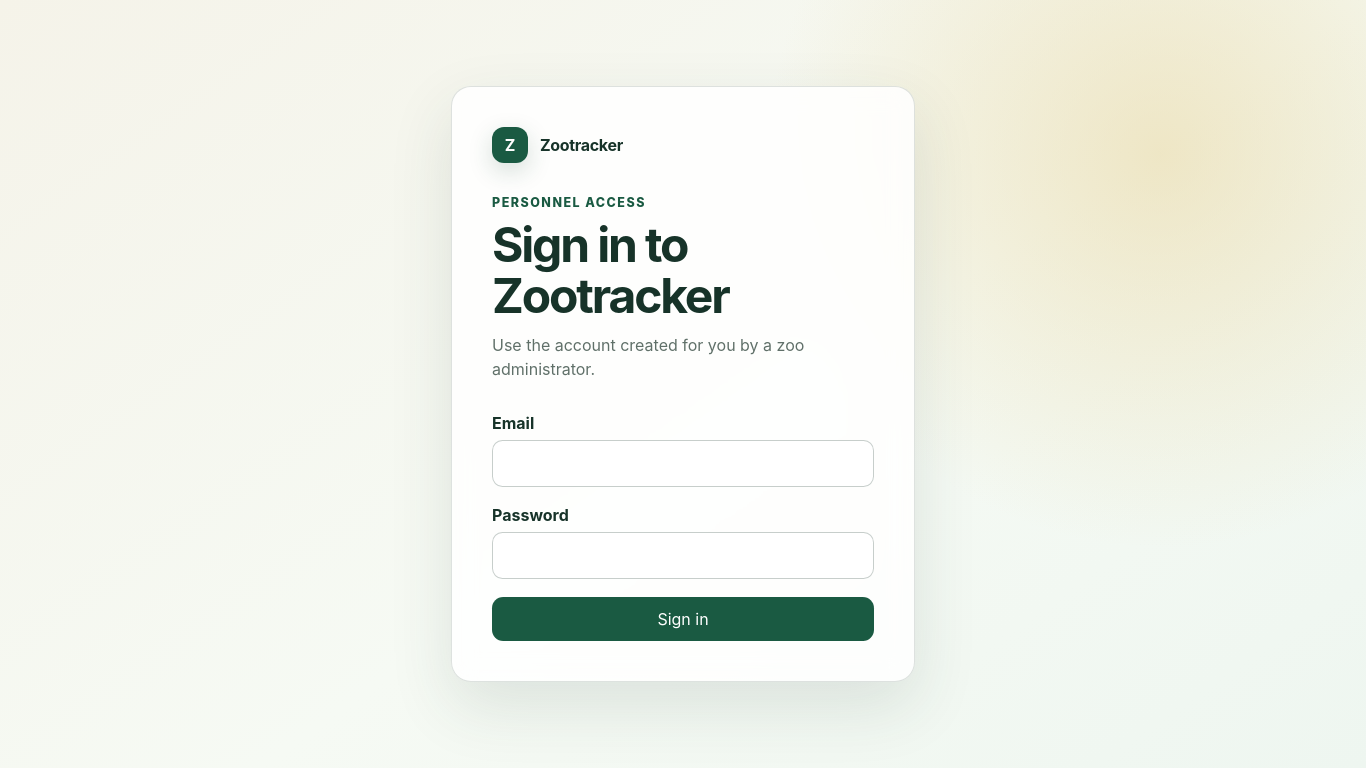
Test: App authentication › redirects into the application after successful authentication
Type "ada@example.com" into the field labelled "Email" at (683, 464), box [492,440,874,487]
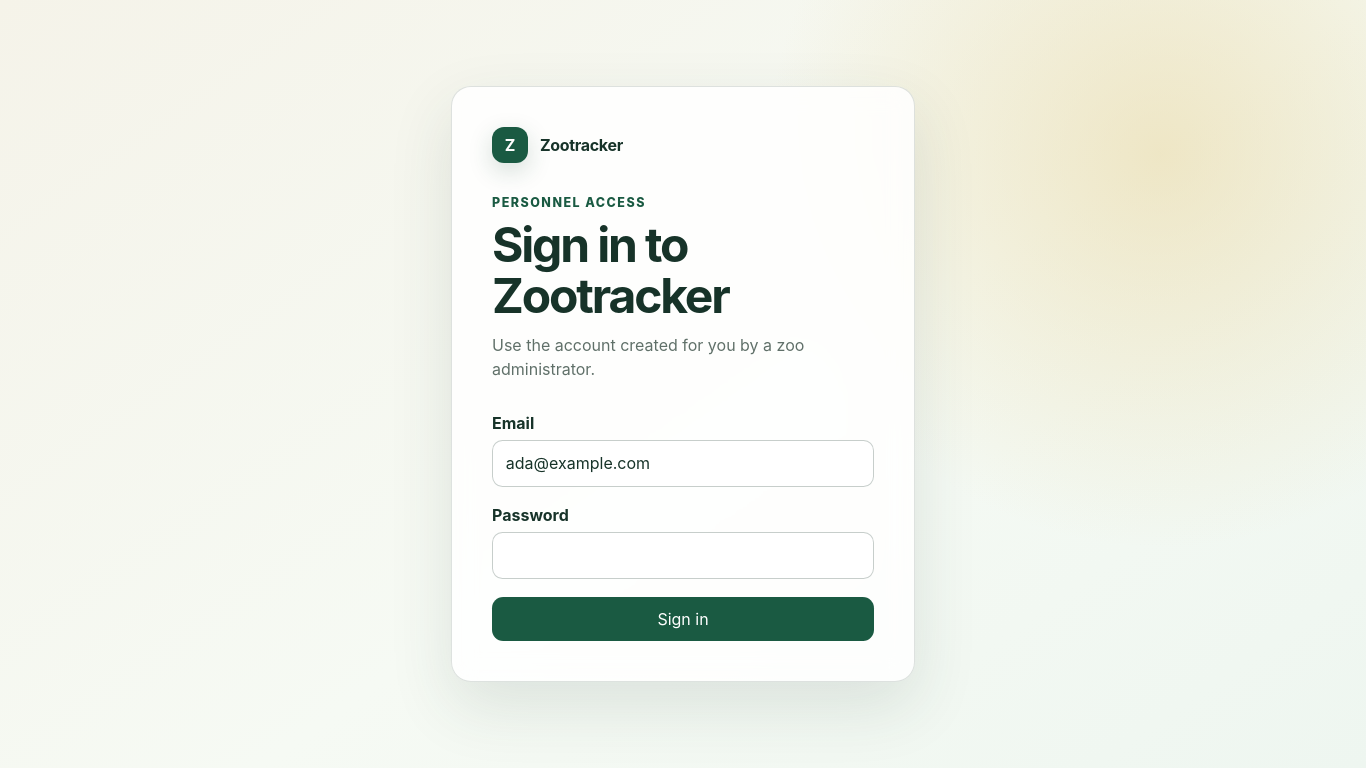
Type "correct-password" into the password field labelled "Password" at (683, 556), box [492,532,874,579]
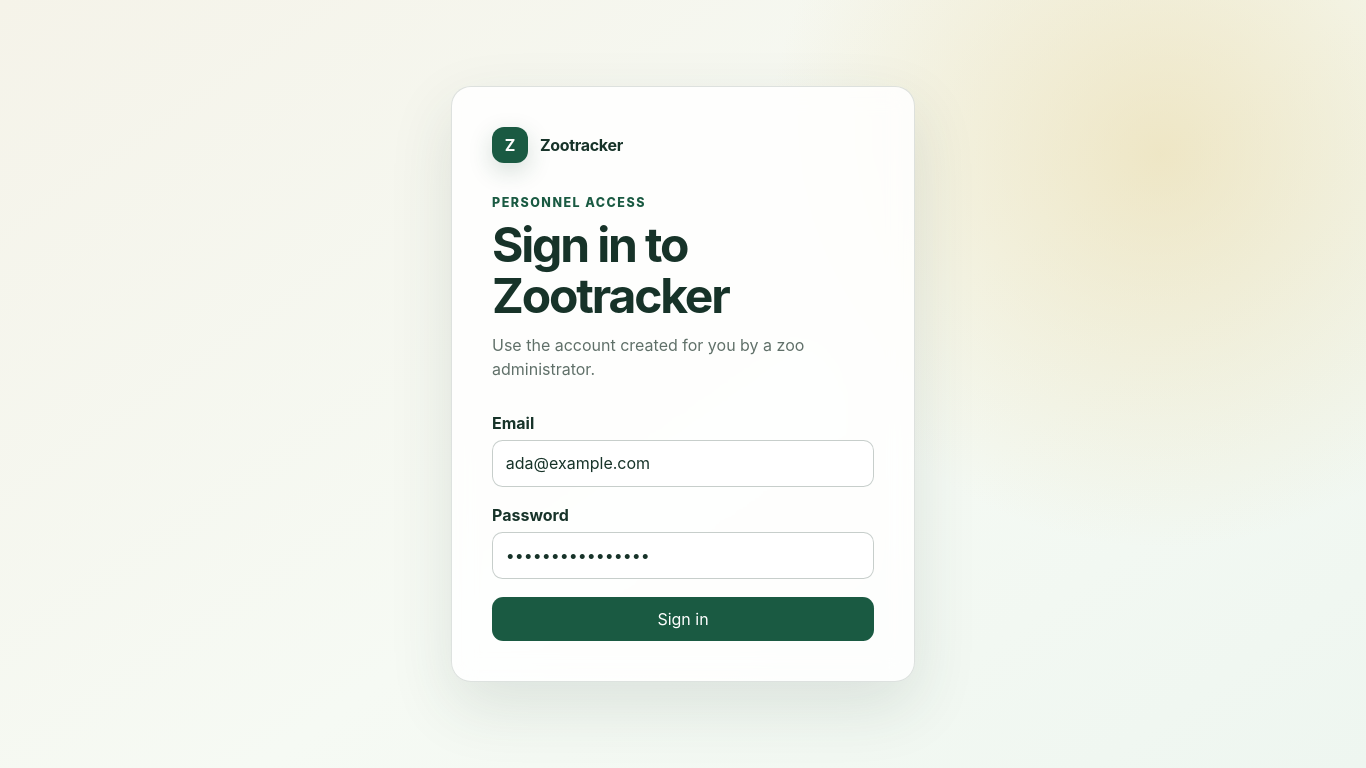
Click the button "Sign in" at (683, 619), box [492,597,874,641]
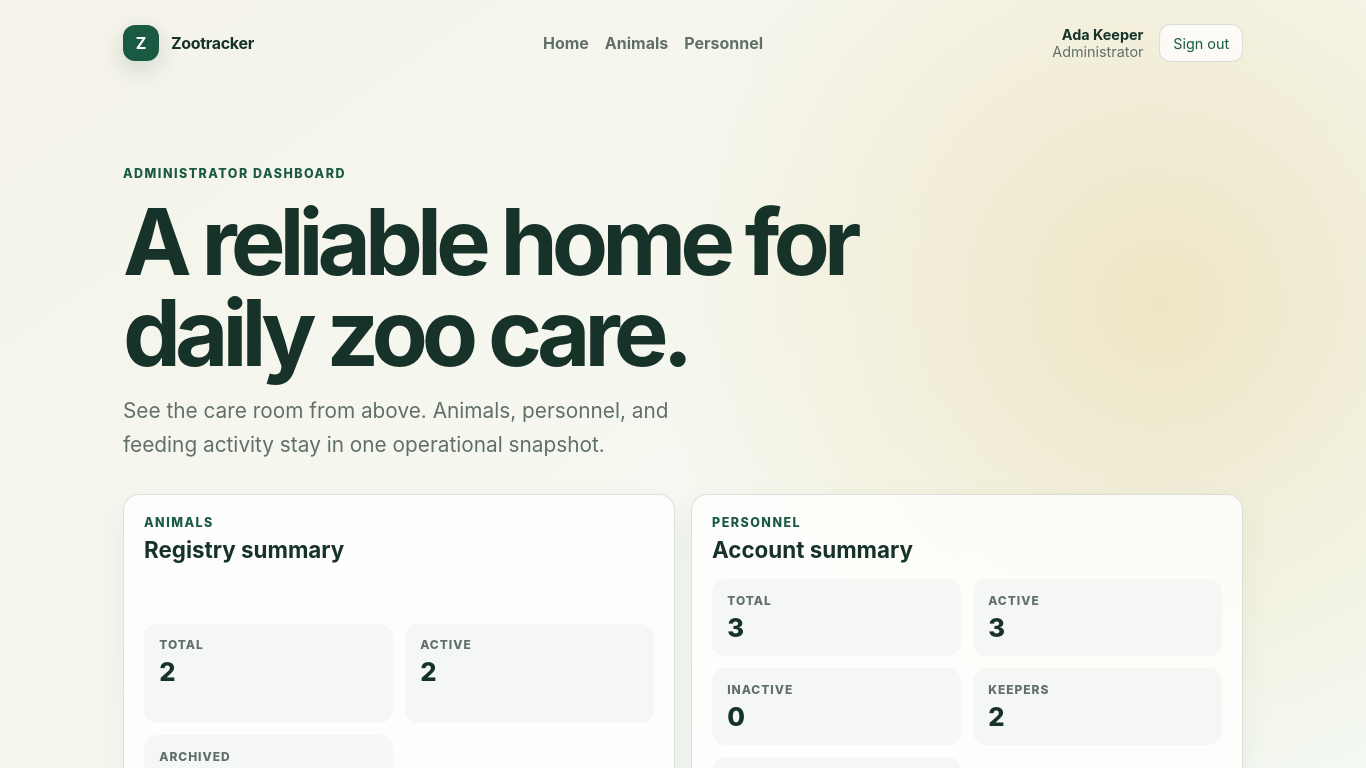
Result: the heading "A reliable home for daily zoo care." is shown at [123,186,856,388]
Result: the heading "Registry summary" is shown at [144,536,344,563]
